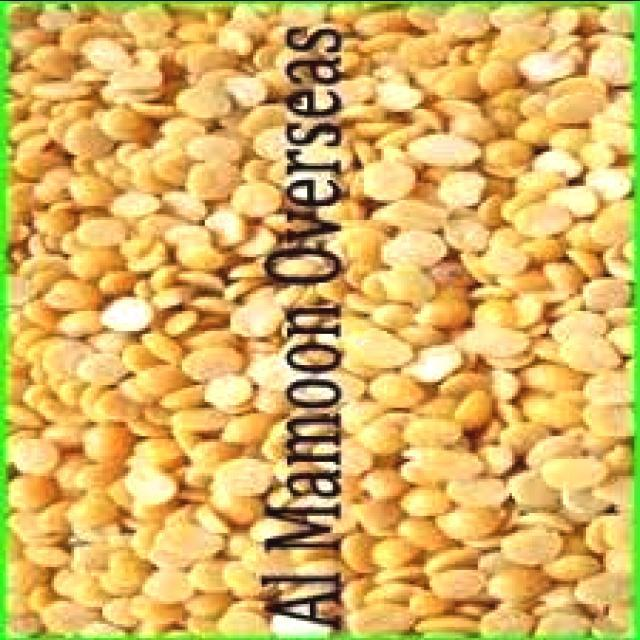Red Lentils: (29, 35, 640, 618)
